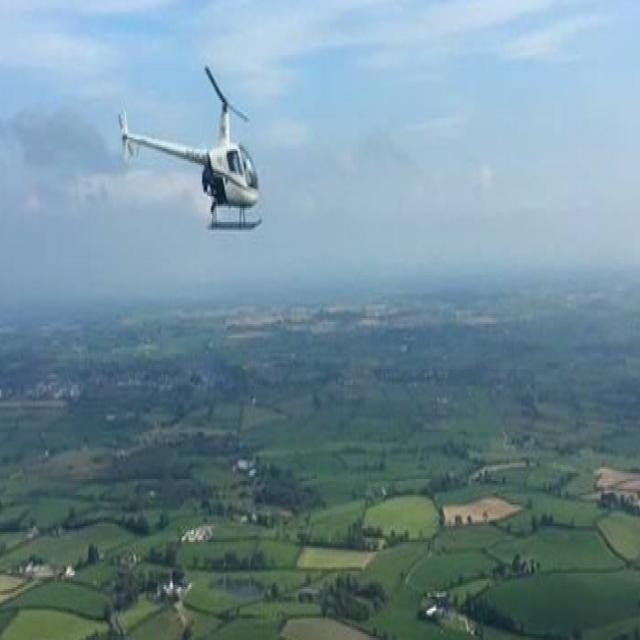helicopter: (119, 68, 269, 231)
